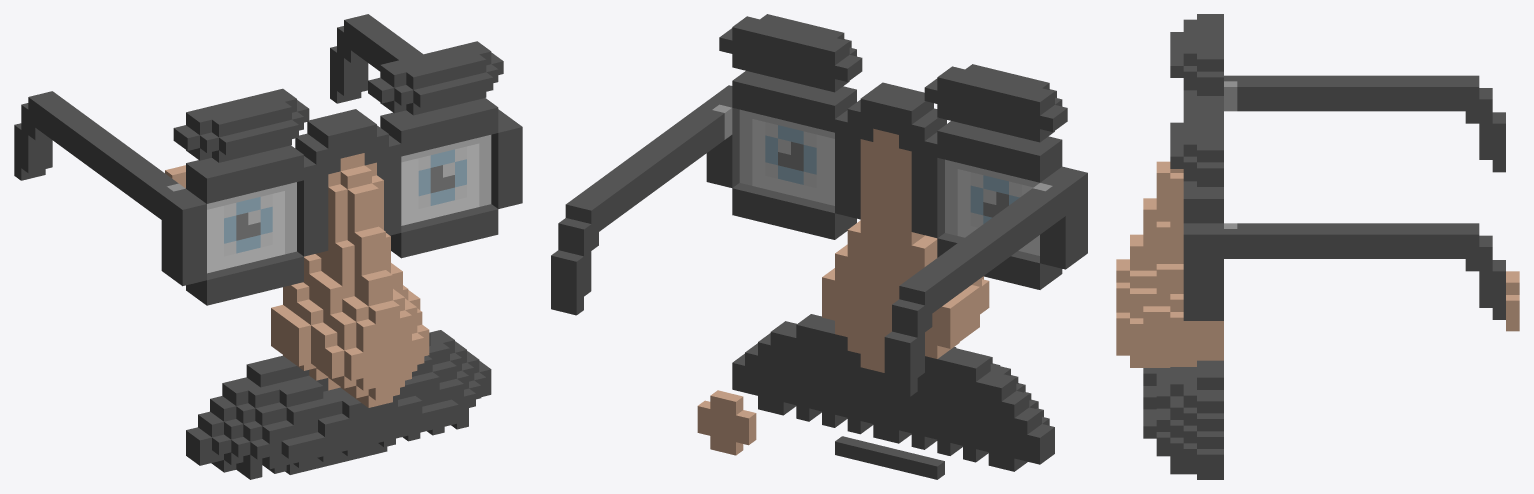
3 renders of one model, left to right at view 1: azimuth 30°, elevation 25°; view 2: azimuth 150°, elevation 25°; view 3: azimuth 270°, elevation 25°, orthographic. The views are drawn at different scales.
Size of the model in its own units: 1.4 by 1.5 by 1.5.
